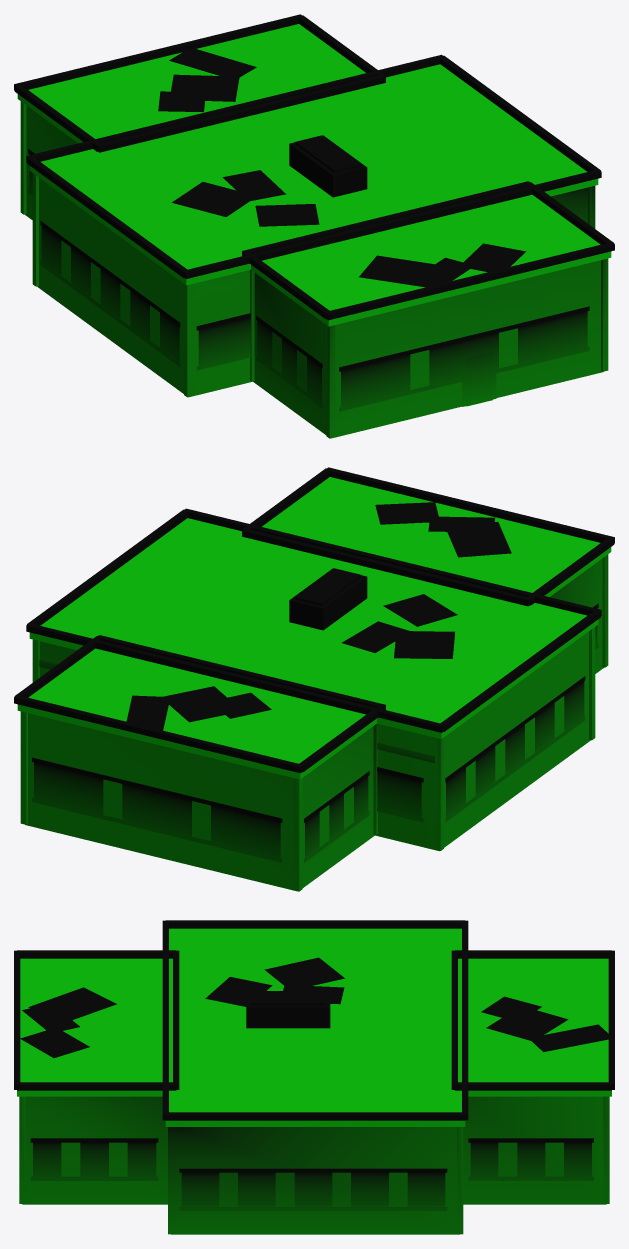
Rendered from s_admin_entry.glb.
The picture shows the model from 3 angles, top to bottom: view 1: azimuth 30°, elevation 25°; view 2: azimuth 150°, elevation 25°; view 3: azimuth 270°, elevation 25°; orthographic projection. The views are drawn at different scales.
Parts seen in each view (by area): view 1: lod0; view 2: lod0; view 3: lod0.
Part boxes in pixels (left/top/right/bottom): lod0: left=14, top=14, right=614, bottom=438; lod0: left=14, top=467, right=614, bottom=891; lod0: left=14, top=920, right=614, bottom=1234.
Size of what is drawn, in the model's own units: 22 by 7.57 by 28.7.
